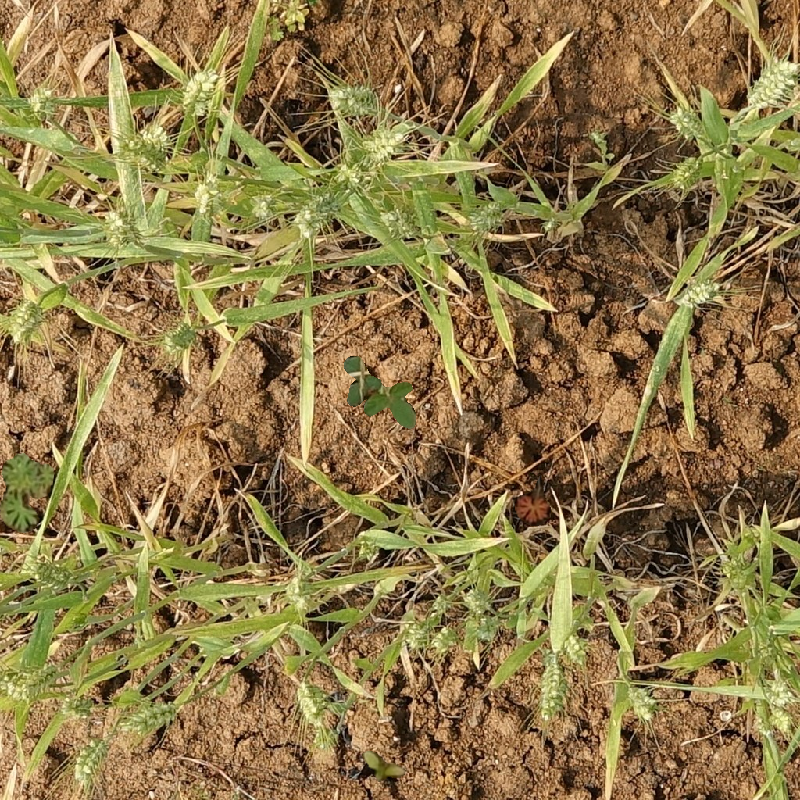spikelet: (744, 57, 799, 110), (1, 659, 59, 701), (118, 698, 177, 735), (536, 649, 566, 721), (293, 187, 335, 238), (129, 122, 172, 171), (180, 66, 219, 115), (5, 296, 45, 343), (327, 82, 378, 117), (26, 554, 74, 591), (71, 738, 107, 785), (359, 125, 405, 161), (718, 552, 757, 593), (294, 678, 328, 725), (377, 204, 420, 241), (191, 172, 225, 217), (158, 317, 198, 355), (101, 207, 138, 247), (677, 275, 721, 308), (466, 198, 506, 233), (667, 104, 705, 140), (624, 682, 659, 721), (24, 83, 60, 120), (285, 571, 319, 610), (668, 154, 702, 192), (60, 690, 94, 722), (248, 189, 278, 225), (760, 677, 794, 708), (332, 161, 365, 191), (562, 631, 590, 666), (472, 613, 502, 643), (461, 586, 492, 614), (402, 617, 429, 649), (430, 625, 459, 653), (583, 123, 611, 152), (355, 534, 380, 563)
weed: (344, 356, 416, 429), (1, 449, 57, 537), (362, 751, 405, 782), (515, 475, 545, 518)
